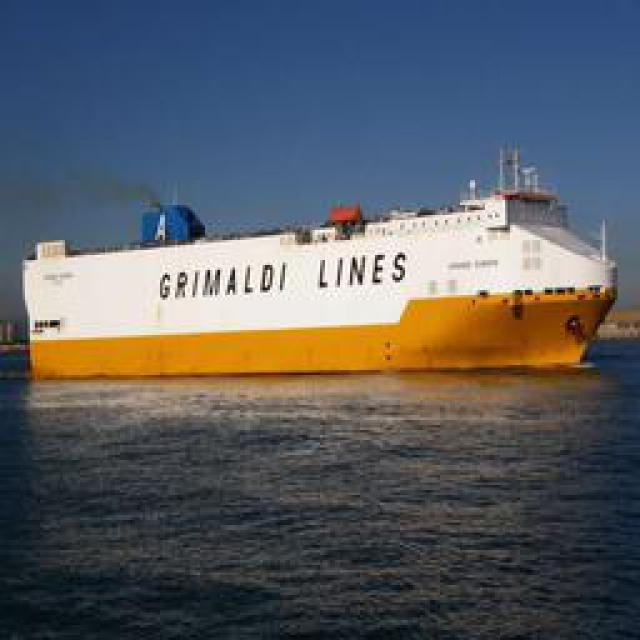Ship: (28, 151, 616, 381)
